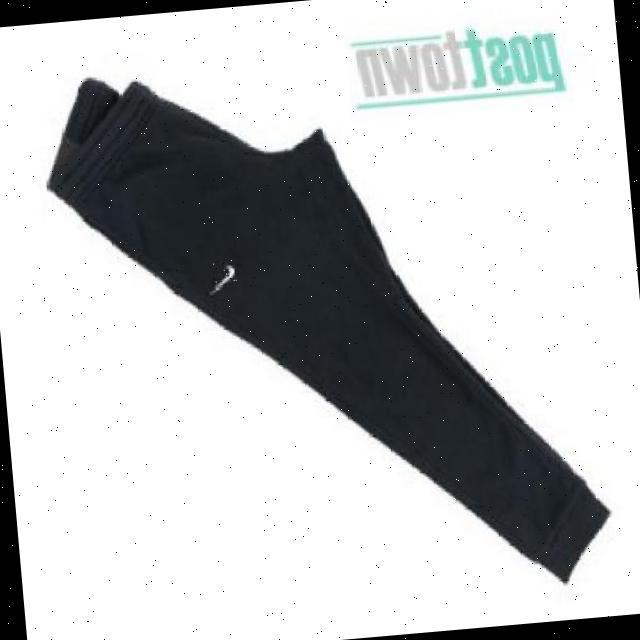Nike: (212, 259, 240, 287)
